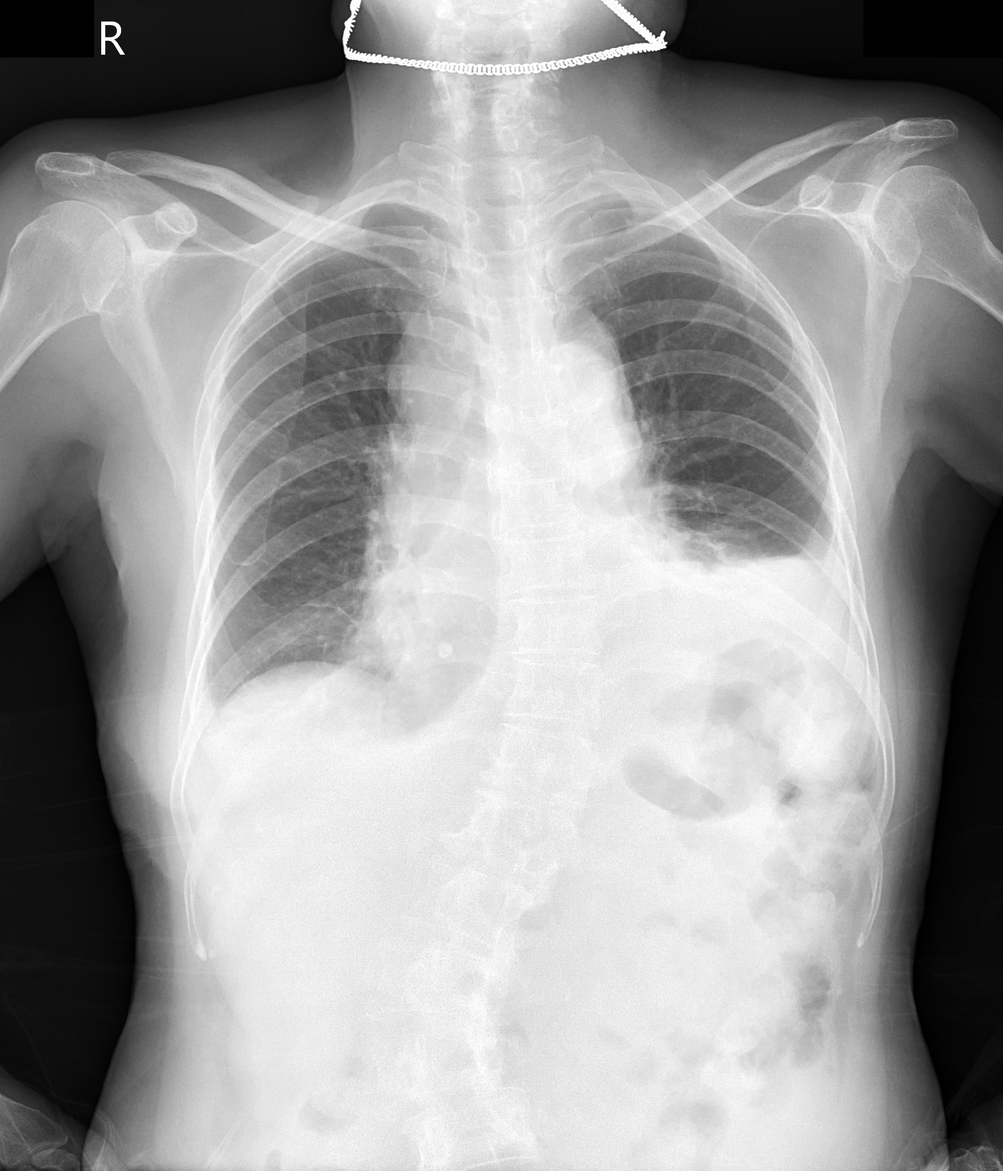Aortic enlargement: (511, 300, 635, 435)
Pleural thickening: (180, 634, 234, 756), (553, 192, 650, 225)
